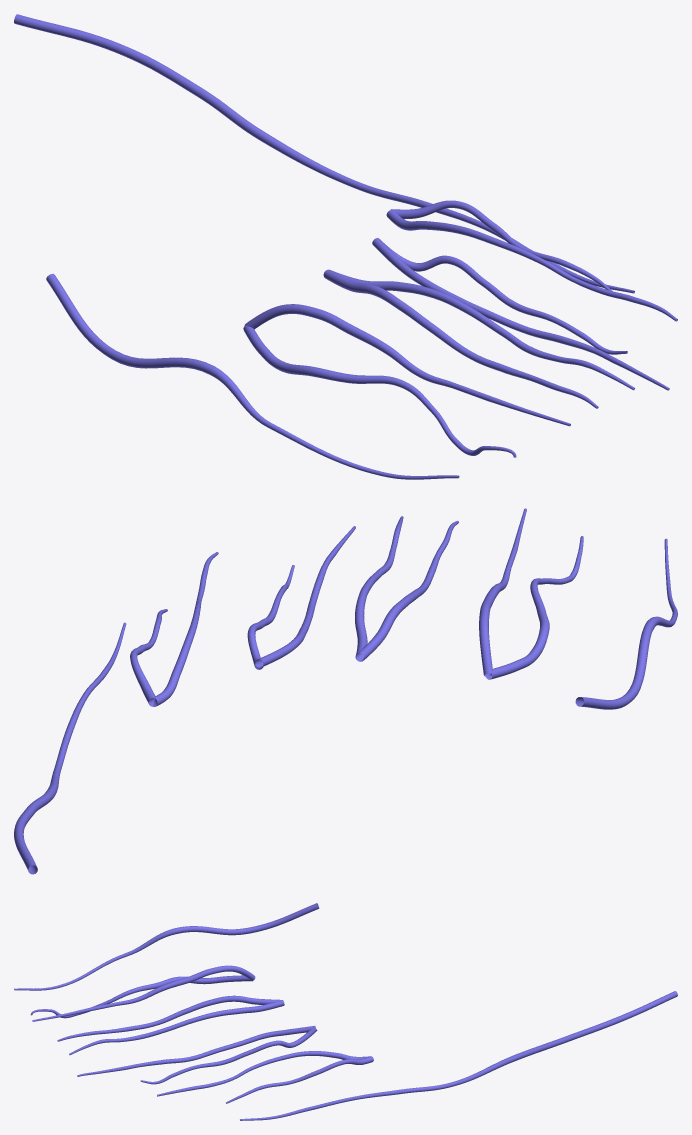
The model's file is Plantar_digital_veins.l_BezierCurve.221.glb.
The picture shows the model from 3 angles, top to bottom: view 1: azimuth 30°, elevation 25°; view 2: azimuth 150°, elevation 25°; view 3: azimuth 270°, elevation 25°; orthographic projection. The views are drawn at different scales.
Visible parts, largest first — view 1: Plantar_digital_veins.l_BezierCurve.221; view 2: Plantar_digital_veins.l_BezierCurve.221; view 3: Plantar_digital_veins.l_BezierCurve.221.
Boxes of the visible parts, <box> form: Plantar_digital_veins.l_BezierCurve.221: <box>14,14,677,479</box>; Plantar_digital_veins.l_BezierCurve.221: <box>14,508,677,874</box>; Plantar_digital_veins.l_BezierCurve.221: <box>14,903,677,1120</box>.
Size of the model in its own units: 0.083 by 0.016 by 0.1479.
